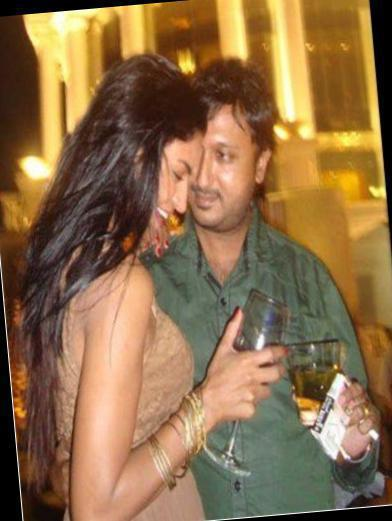Drunk: (187, 108, 257, 224)
